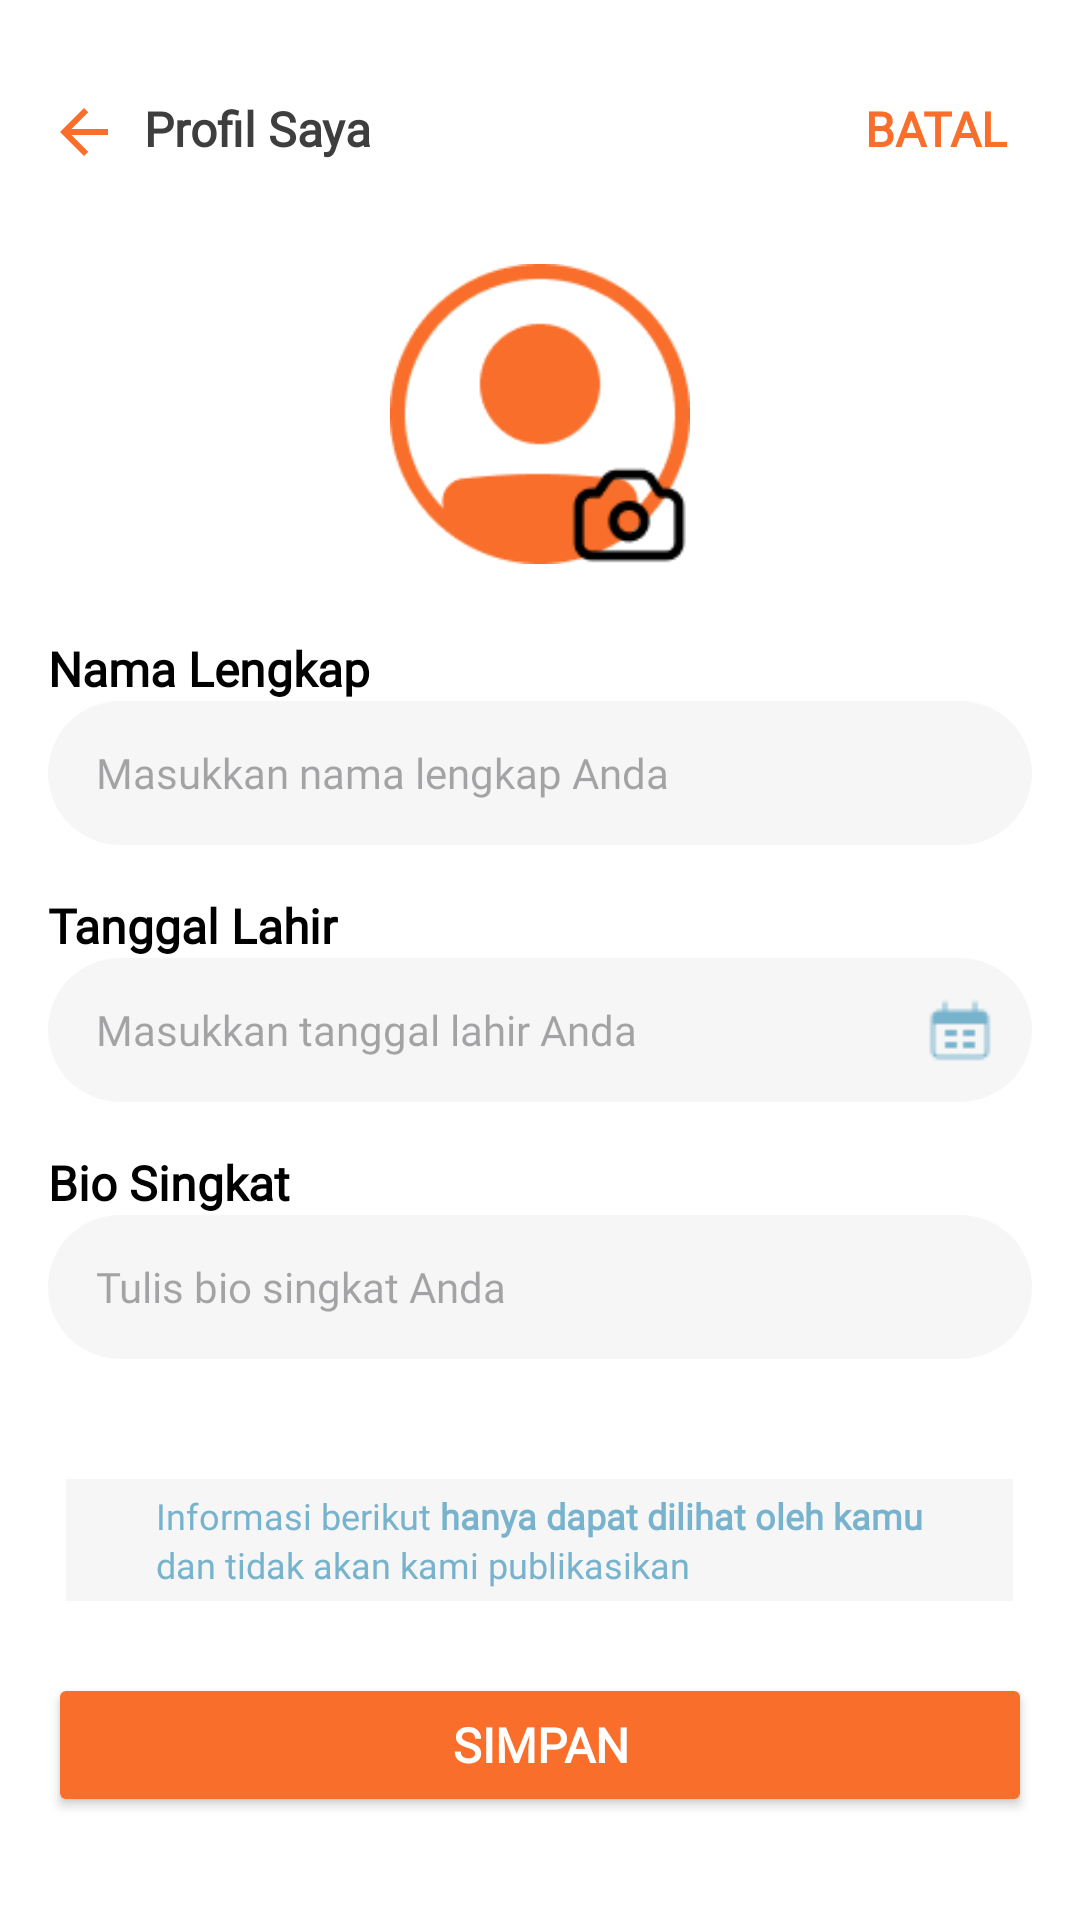

Point at icon controls on the screen. Image size 1080 × 1920, points as [x,y].
Back Button: [84,132]
Pick Date: [960,1030]
Profile Image: [540,414]
